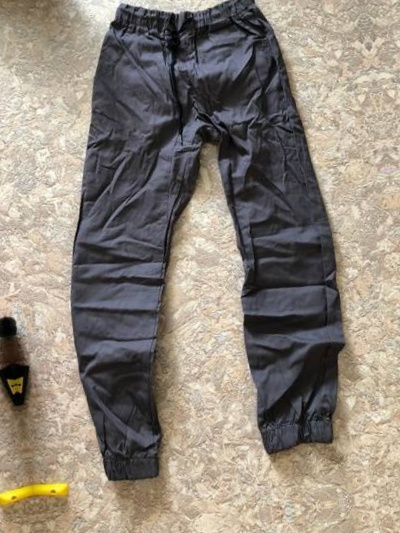Pants: (0, 0, 394, 495), (393, 0, 400, 430), (0, 34, 4, 533)
